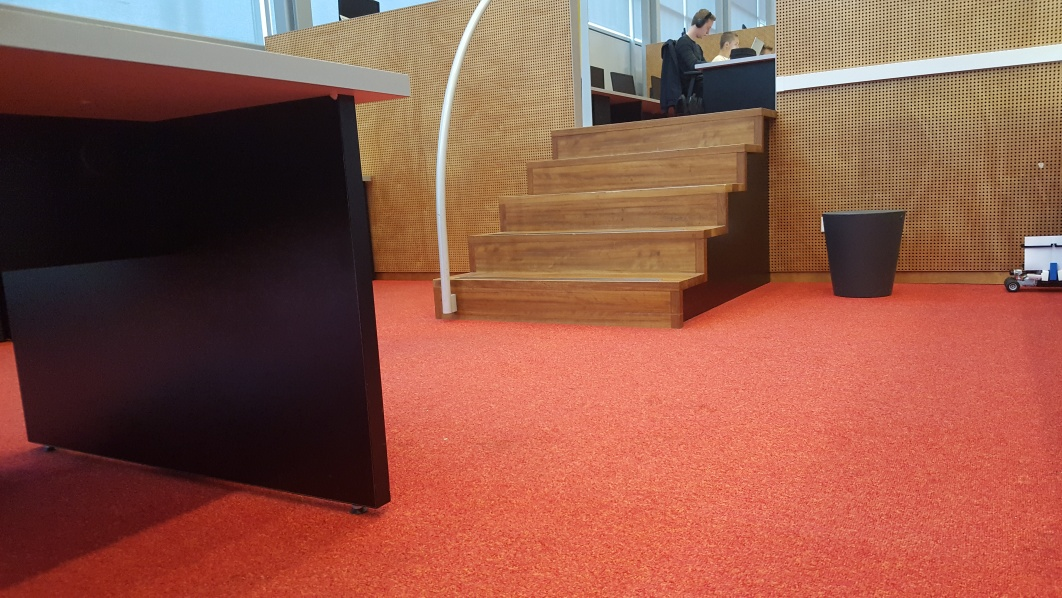car: (1006, 232, 1062, 294)
